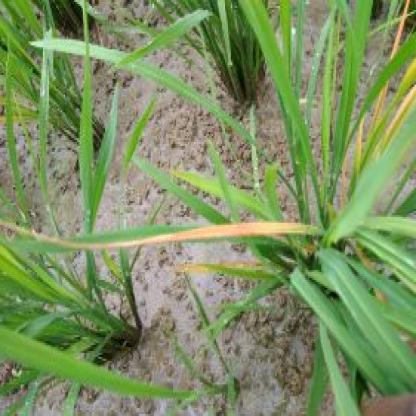Tungro: (66, 216, 310, 256)
